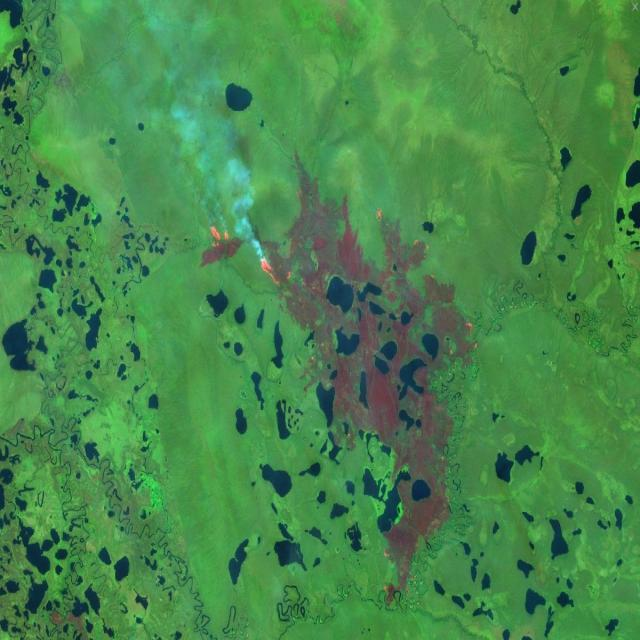fire: (205, 213, 295, 299)
